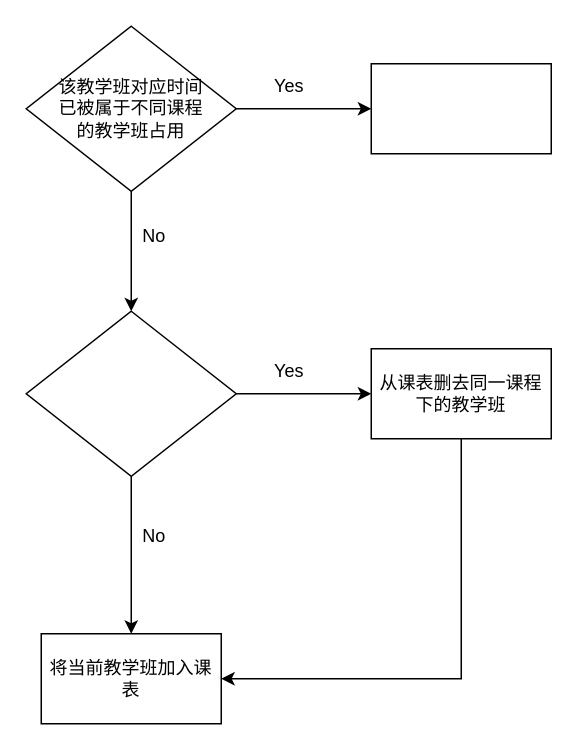
Some shapes in this 578 by 750 pixel diagram are drawn without their labels. The shapes that lost their labels are listed below. From the top down, each one's centre as x and y in pixels, then its label:
(460,108): 报错:"课程时间冲突"
(130,393): 该教学班已有相同 课程在课表上
